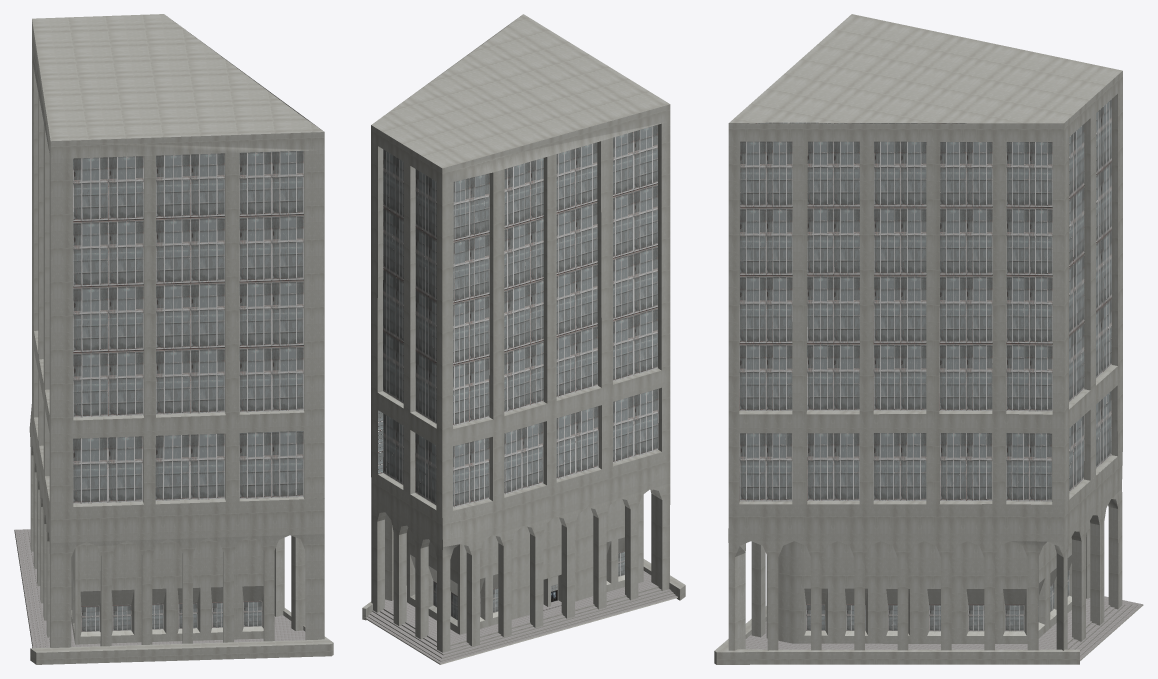
The model's file is archedbuilding.obj.
3 renders of one model, left to right at view 1: azimuth 30°, elevation 25°; view 2: azimuth 150°, elevation 25°; view 3: azimuth 270°, elevation 25°, orthographic. The views are drawn at different scales.
Parts seen in each view (by area): view 1: archedbuilding_l0; view 2: archedbuilding_l0; view 3: archedbuilding_l0.
Boxes of the visible parts, left/top/right/bottom form: archedbuilding_l0: left=14, top=14, right=333, bottom=664; archedbuilding_l0: left=362, top=14, right=685, bottom=664; archedbuilding_l0: left=714, top=14, right=1143, bottom=664.
Bounding box in the file's own units: 72.02 × 153 × 110.
